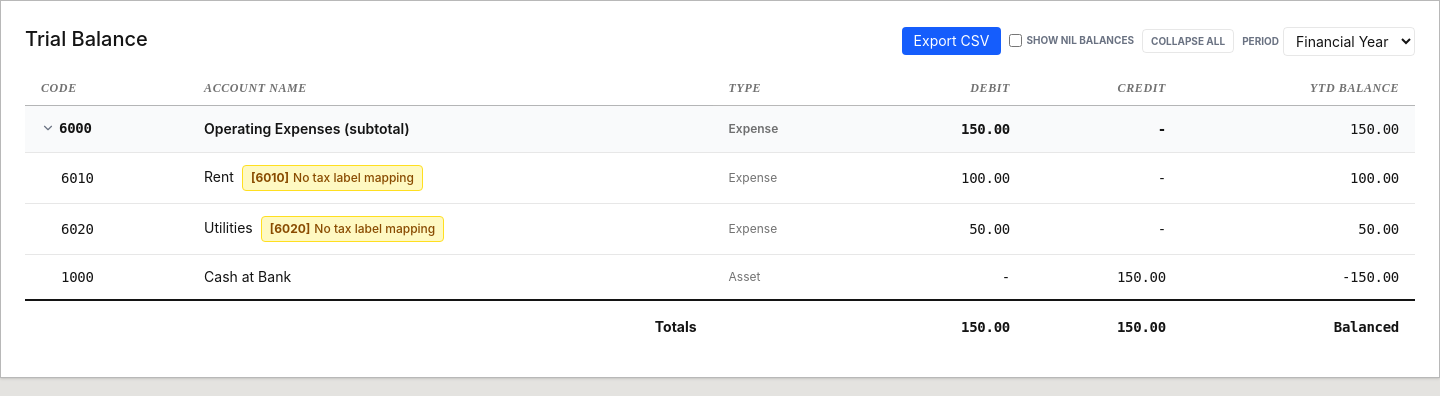
Scenario: TrialBalance Phase 4 refactor (BOOK-07, BOOK-09) › collapsibility: "Collapse all" hides every child; "Expand all" restores
What coordinates should you click on to do the following:
click the button with test id "tb-toggle-all"
I would click on:
 (1188, 41)
Its box is [1142,29,1234,53].
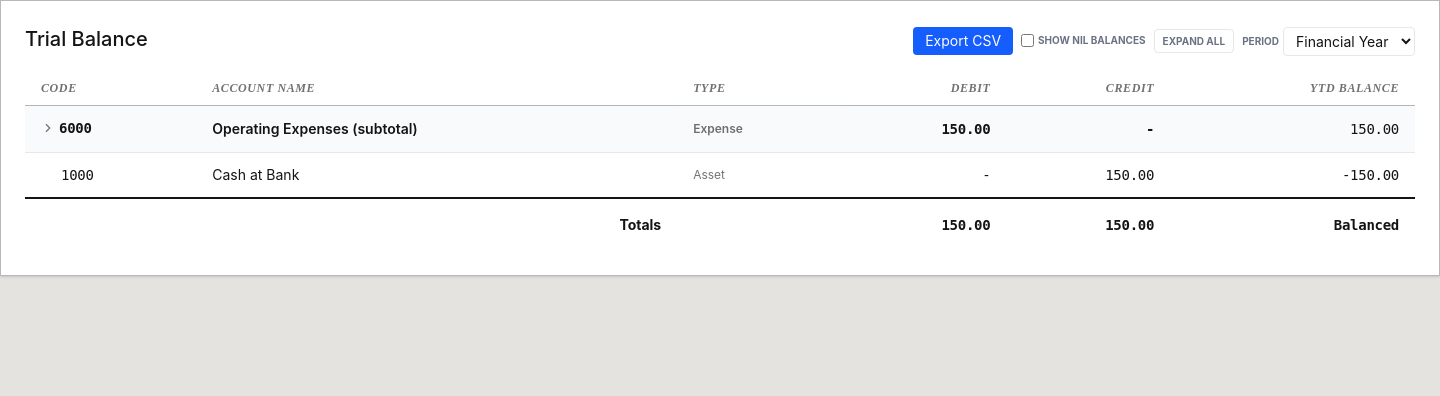
Expected: the row with test id "tb-parent-6000" is shown, [25,105,1415,152]
Now the row with test id "tb-row-6010" is gone
Now the row with test id "tb-row-6020" is gone
Toggling again expands.
What coordinates should you click on to do the following:
click the button with test id "tb-toggle-all"
I would click on:
 (1194, 41)
Its box is [1154,29,1234,53].
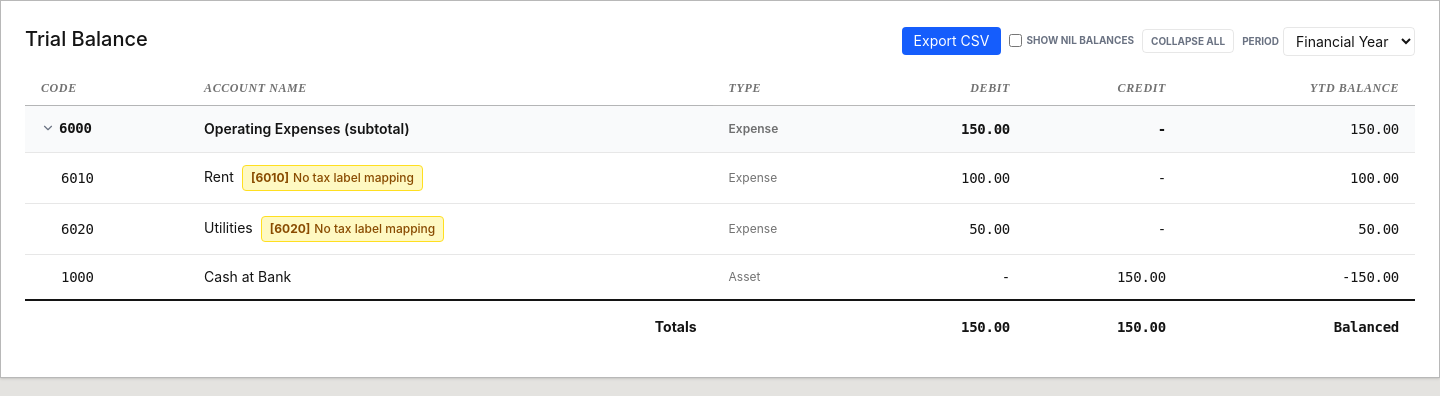
Now the row with test id "tb-row-6010" is shown, box [25,152,1415,203]
Now the row with test id "tb-row-6020" is shown, box [25,203,1415,254]
